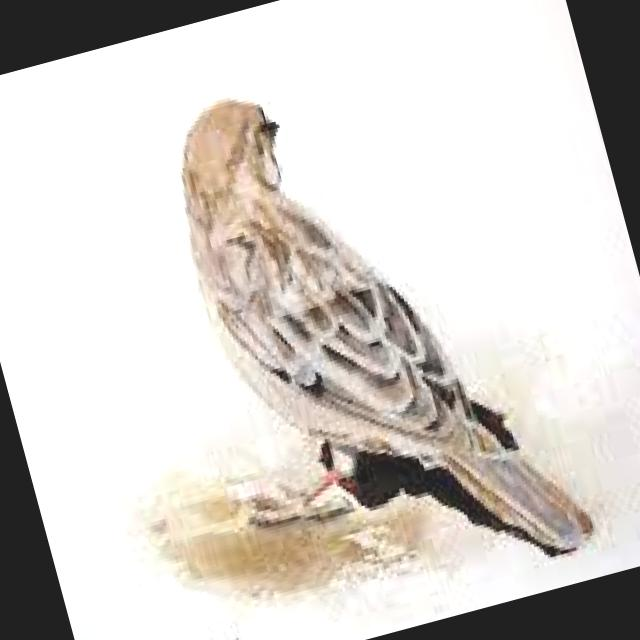bird: (128, 28, 604, 628)
